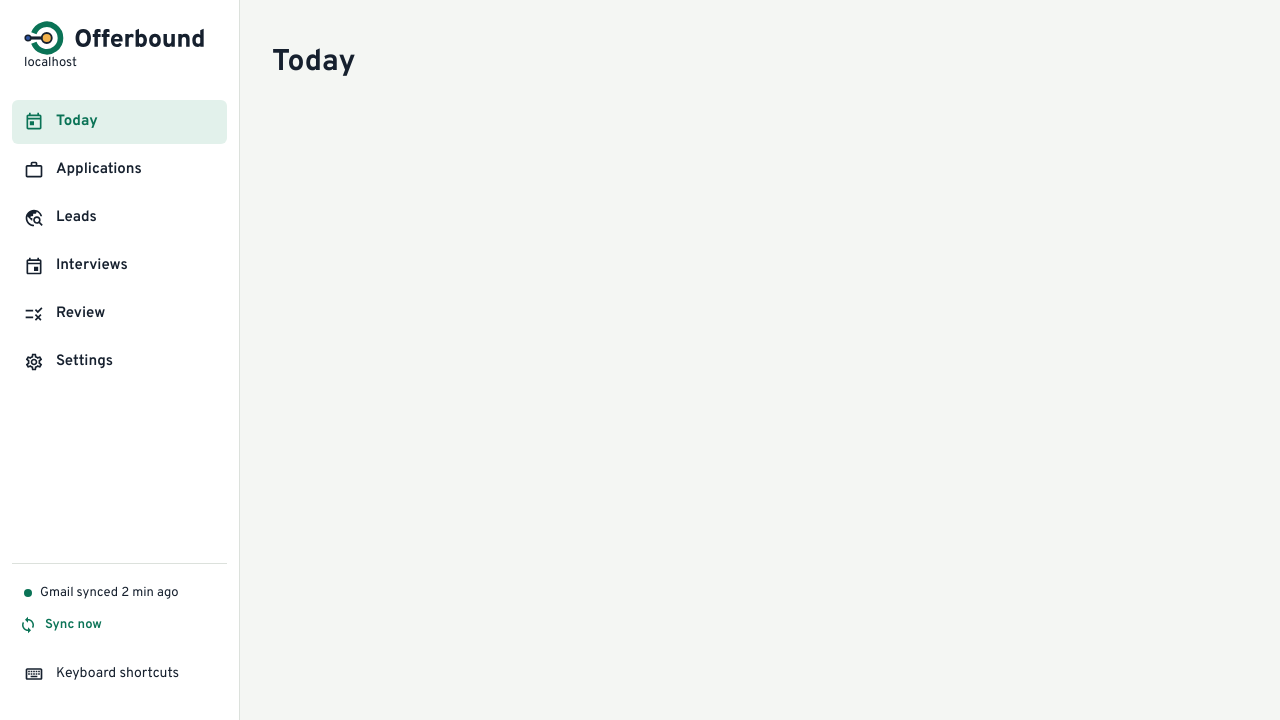
Test case: AppShell › Keyboard shortcuts control › is visible in the drawer
The image size is (1280, 720).
What coordinates should you click on to do the following:
click the button "Keyboard shortcuts"
I would click on:
 (102, 674)
Its box is [24, 664, 179, 684].
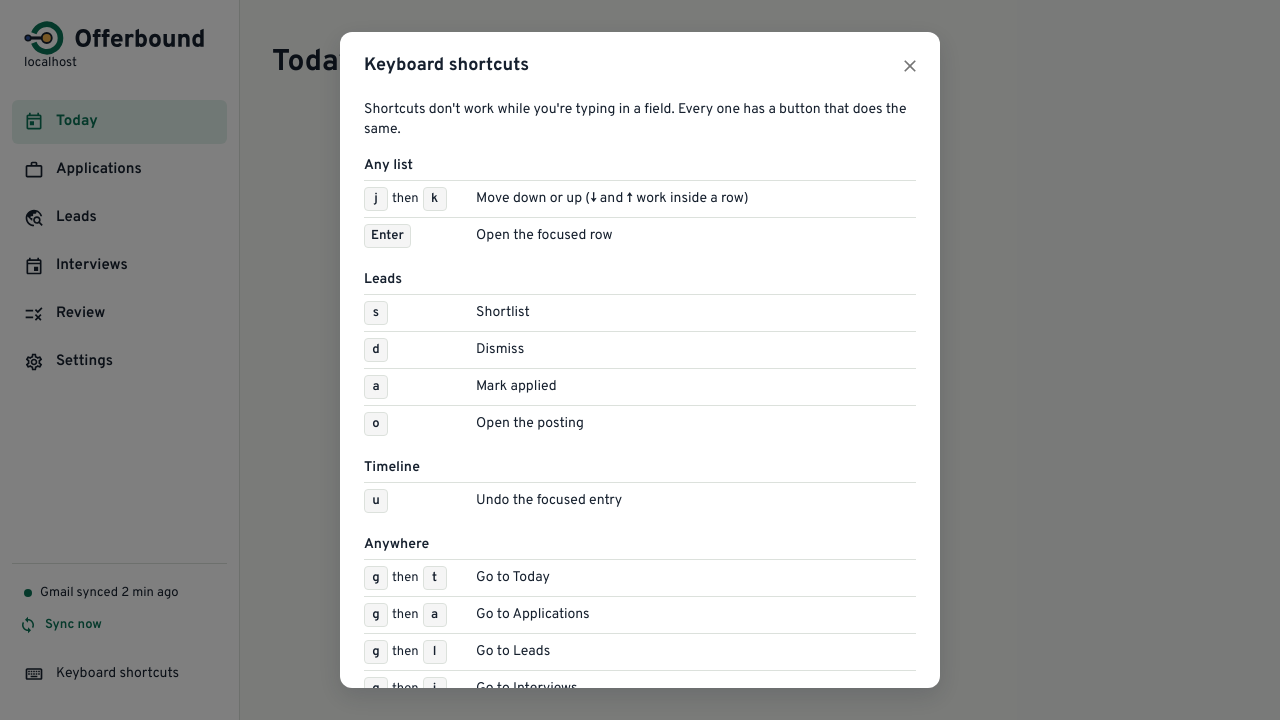
Now the dialog "Keyboard shortcuts" is shown, box [340, 32, 940, 688]
